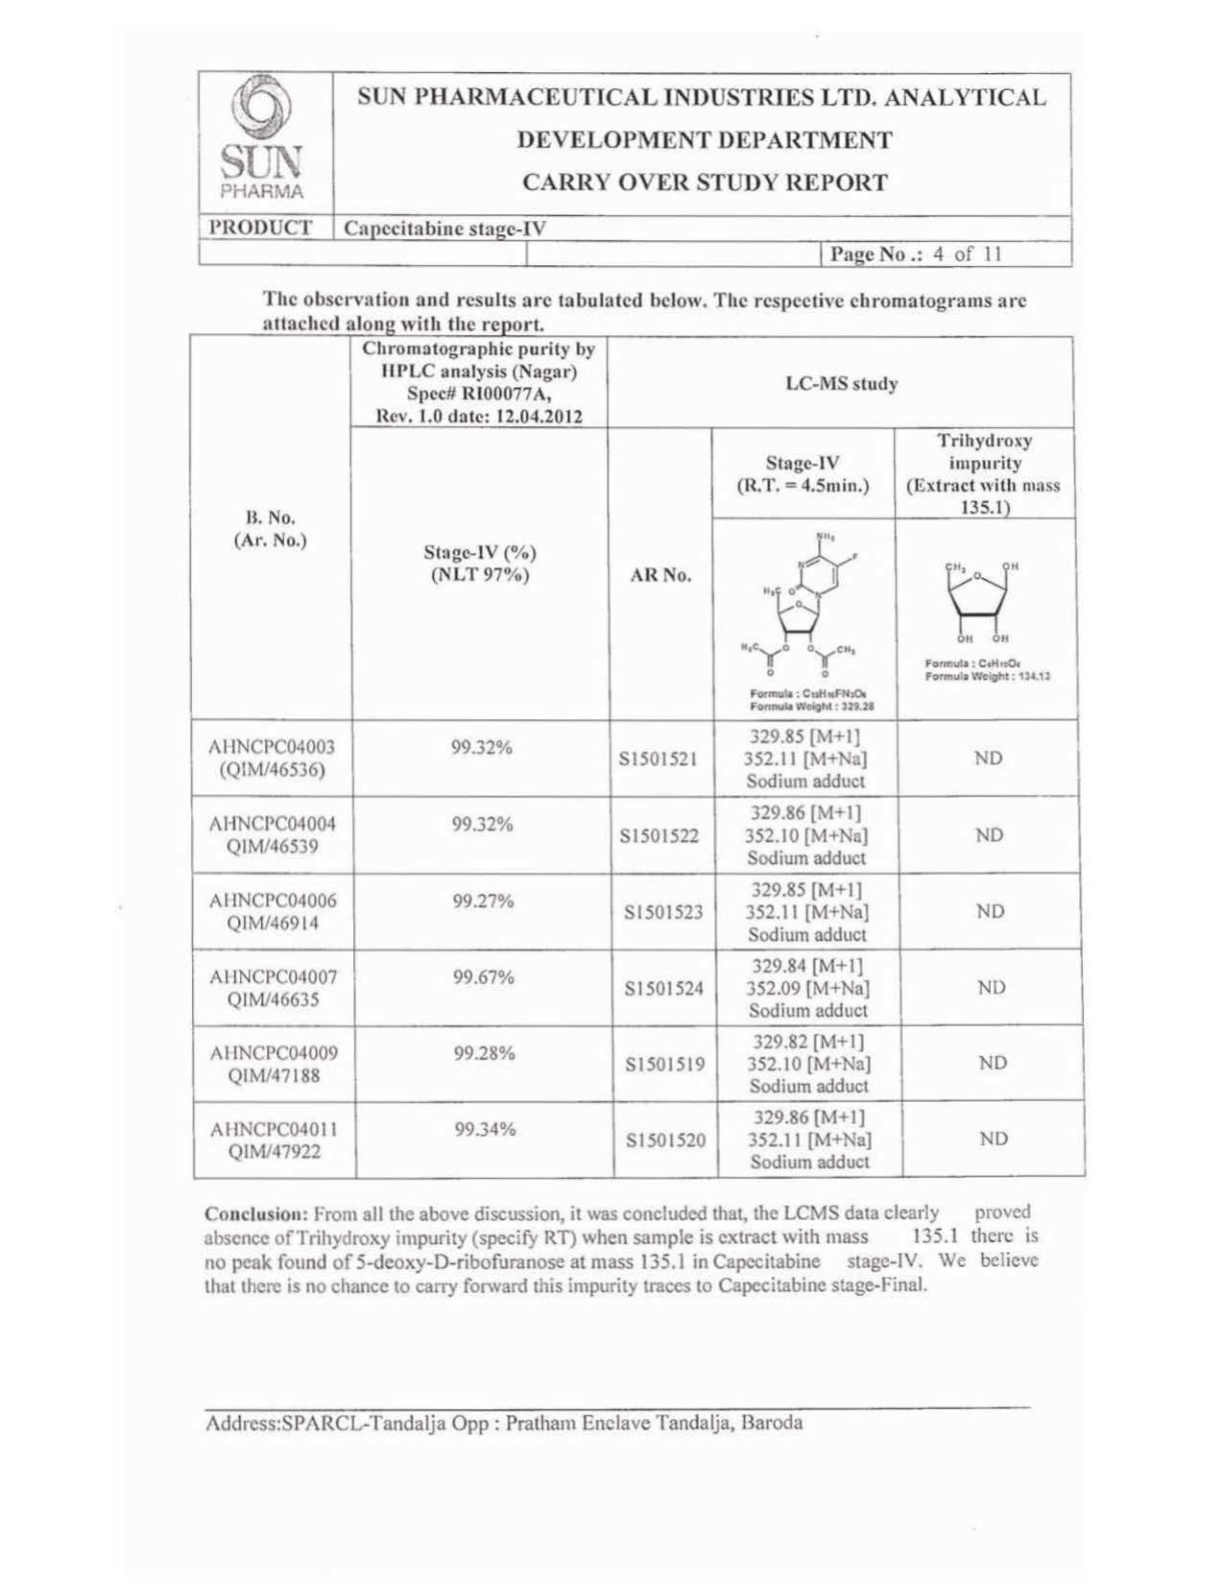merged_cells: (186, 330, 1086, 1180), (195, 68, 1075, 269)
